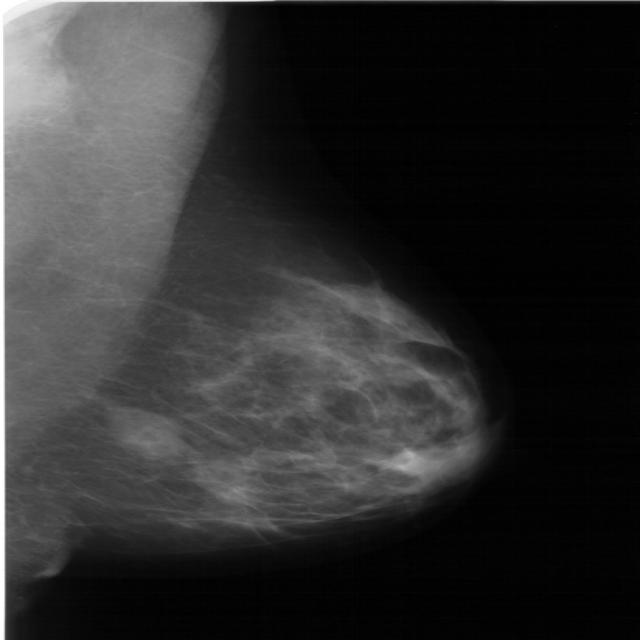tumour: (106, 405, 180, 460)
